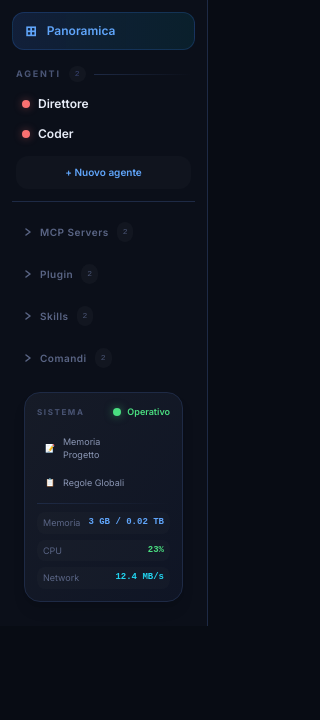
it: Sidebar › mostra tooltip comando al mouseEnter
Click the text "Comandi".
click(63, 358)  # box top-left (40, 350), bottom-right (87, 366)
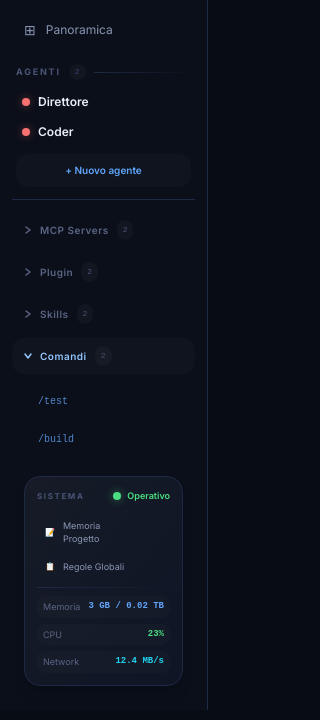
Hover over the button "/test".
mouse_move(110, 398)  # box top-left (28, 380), bottom-right (191, 416)
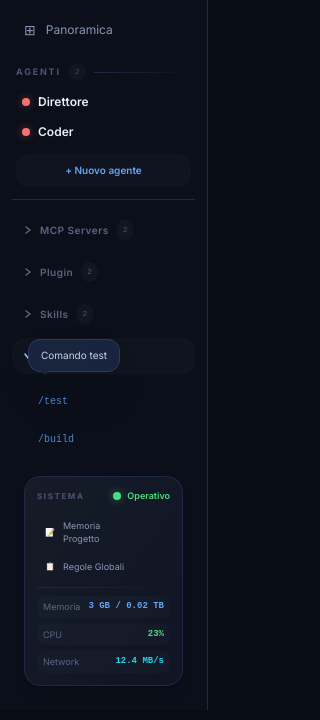
Expected: the text "Comando test" is shown, top-left (28, 339), bottom-right (120, 372)
